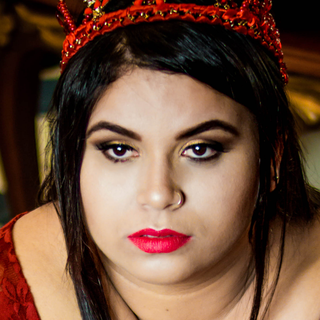eye: (181, 138, 228, 165), (96, 139, 139, 165)
